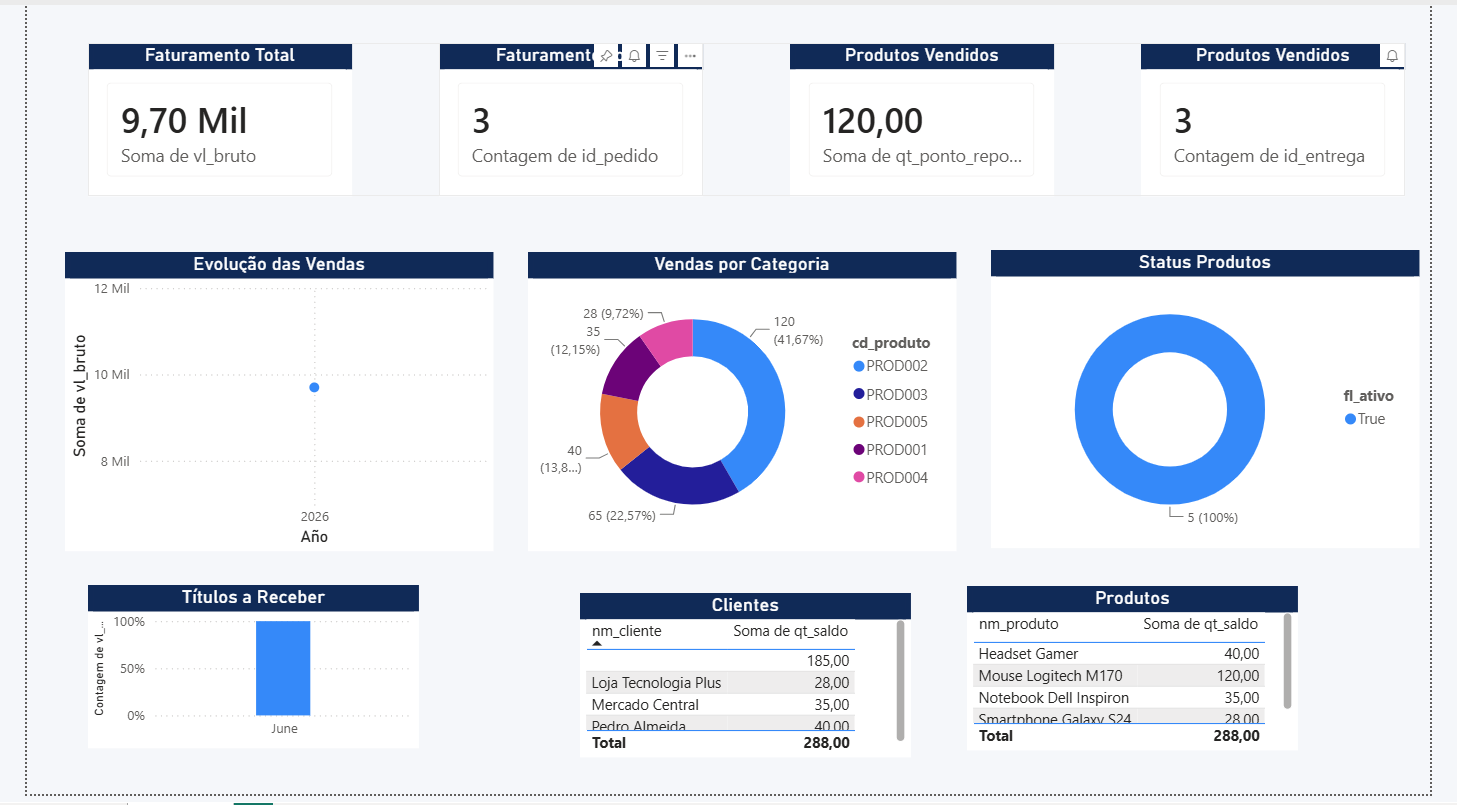

The page's visual inventory and layout, read from the dashboard file:
{"tool":"powerbi","page":{"name":"VendasMais","canvas":[1280,720],"ordinal":0},"visuals":[{"type":"cardVisual","title":"Faturamento Total","fields":{"Data":["Sum(pedido_item.vl_bruto)"]},"box":[55.7,34.7,240.7,139.6],"z":1,"group":"g1"},{"type":"cardVisual","title":"Faturamento Total","fields":{"Data":["Count(pedido.id_pedido)"]},"box":[376.4,34.7,240.7,139.6],"z":2,"group":"g1"},{"type":"cardVisual","title":"Produtos Vendidos","fields":{"Data":["Sum(produto.qt_ponto_reposicao)"]},"box":[696.1,34.7,240.7,139.6],"z":3,"group":"g1"},{"type":"cardVisual","title":"Produtos Vendidos","fields":{"Data":["Count(entrega.id_entrega)"]},"box":[1016.8,34.7,240.7,139.6],"z":4,"group":"g1"},{"type":"lineChart","title":"Evolução das Vendas","fields":{"Category":["pedido.dt_emissao.Variação.Jerarquía de fechas.Año","pedido.dt_emissao.Variação.Jerarquía de fechas.Trimestre","pedido.dt_emissao.Variação.Jerarquía de fechas.Mes","pedido.dt_emissao.Variação.Jerarquía de fechas.Día"],"Y":["Sum(pedido.vl_bruto)"]},"box":[34.7,225.4,391,272.9],"z":5,"group":"g2"},{"type":"donutChart","title":"Vendas por Categoria","fields":{"Category":["produto.cd_produto"],"Series":["produto.nm_produto"],"Y":["Sum(estoque_saldo.qt_saldo)"]},"box":[457.2,225.4,390.6,272.9],"z":6,"group":"g2"},{"type":"tableEx","title":"Clientes","fields":{"Values":["cliente.nm_cliente","Sum(estoque_saldo.qt_saldo)"]},"box":[504.7,536.6,302,149.7],"z":7,"group":"g3"},{"type":"tableEx","title":"Produtos","fields":{"Values":["produto.nm_produto","Sum(estoque_saldo.qt_saldo)"]},"box":[857.8,530.2,302.1,149.7],"z":8,"group":"g3"},{"type":"donutChart","title":"Status Produtos","fields":{"Category":["produto.fl_ativo"],"Y":["Count(produto.qt_ponto_reposicao)"]},"box":[879.7,223.6,390.6,272],"z":9,"group":"g2"},{"type":"hundredPercentStackedColumnChart","title":"Títulos a Receber","fields":{"Category":["titulo_receber.dt_vencimento.Variação.Jerarquía de fechas.Mes"],"Y":["Count(titulo_receber.vl_titulo)"]},"box":[55.7,529.3,302,149],"z":10,"group":"g3"},{"type":"group","id":"g1","title":"Grupo 1","box":[55.7,34.7,1201.8,139.6],"z":11},{"type":"group","id":"g2","title":"Grupo 2","box":[34.7,223.6,1235.6,274.7],"z":12},{"type":"group","id":"g3","title":"Grupo 3","box":[55.7,529.3,1104.2,157],"z":13}]}

Visuals, with their boxes on the page's 1280x720 design canvas (x1, y1, x2, y2). These are canvas units, not pixel positions in the 1457x805 screenshot, which may show the page scaled, cropped or inside an application window:
"Faturamento Total" cardVisual: 56,35,296,174
"Faturamento Total" cardVisual: 376,35,617,174
"Produtos Vendidos" cardVisual: 696,35,937,174
"Produtos Vendidos" cardVisual: 1017,35,1258,174
"Evolução das Vendas" lineChart: 35,225,426,498
"Vendas por Categoria" donutChart: 457,225,848,498
"Clientes" tableEx: 505,537,807,686
"Produtos" tableEx: 858,530,1160,680
"Status Produtos" donutChart: 880,224,1270,496
"Títulos a Receber" hundredPercentStackedColumnChart: 56,529,358,678
"Grupo 1" group: 56,35,1258,174
"Grupo 2" group: 35,224,1270,498
"Grupo 3" group: 56,529,1160,686
